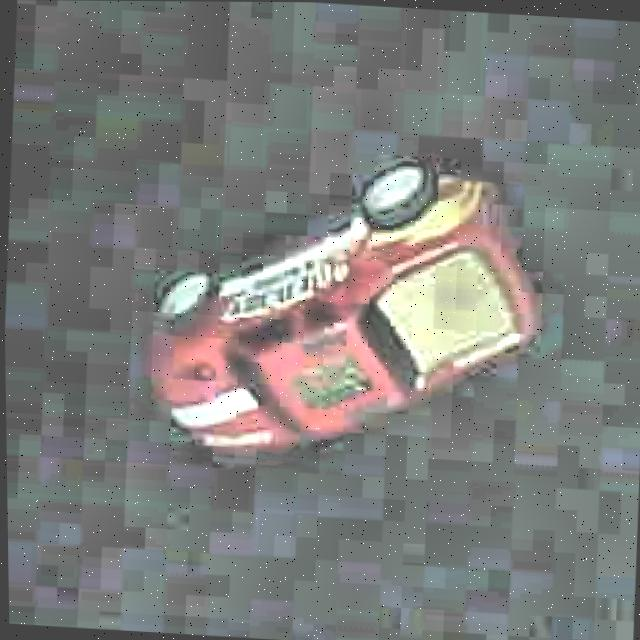car: (135, 137, 554, 478)
